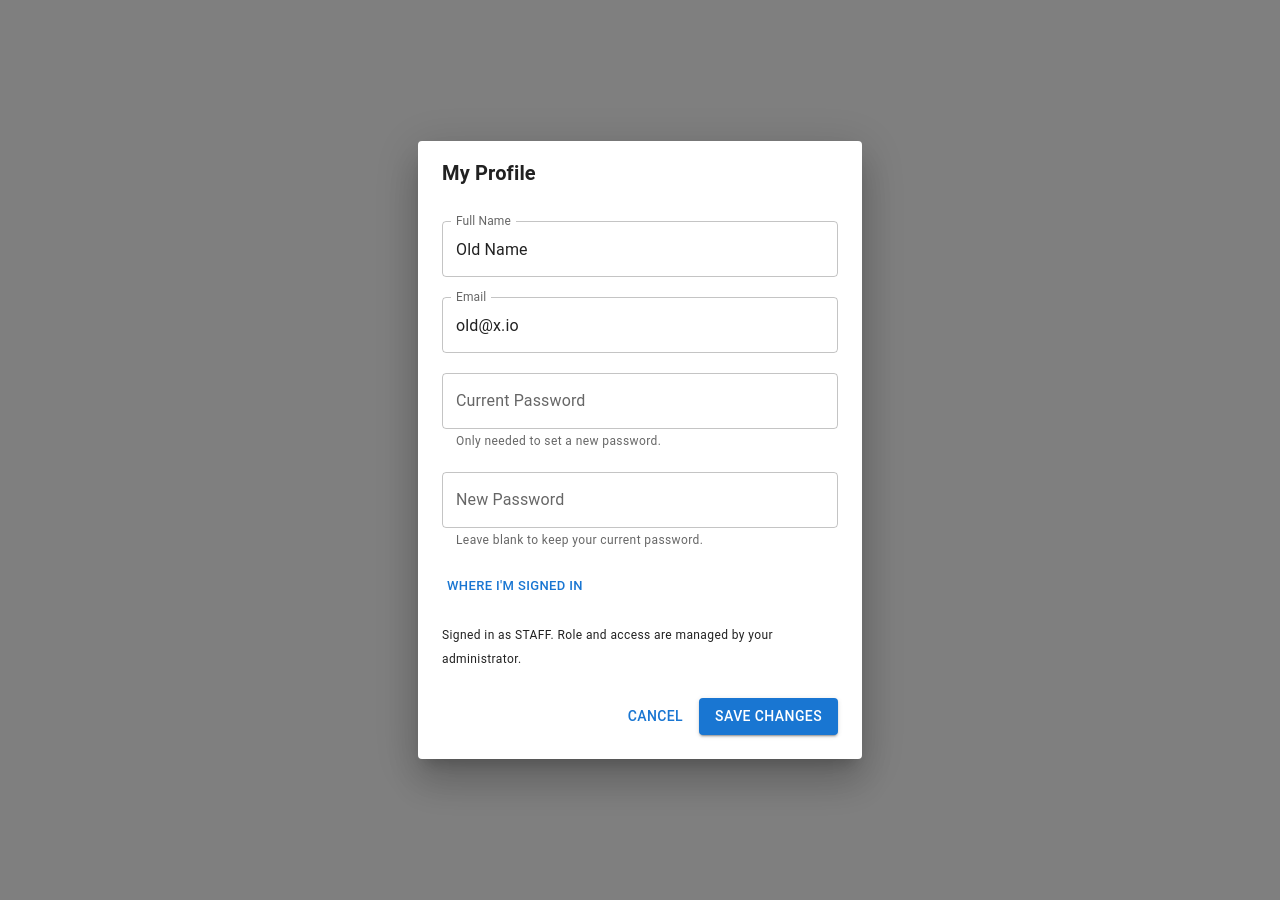
Test case: ProfileDialog › blocks saving when name or email is cleared
Clear the field labelled "Full Name" at [640, 250], box [442,222,838,278]
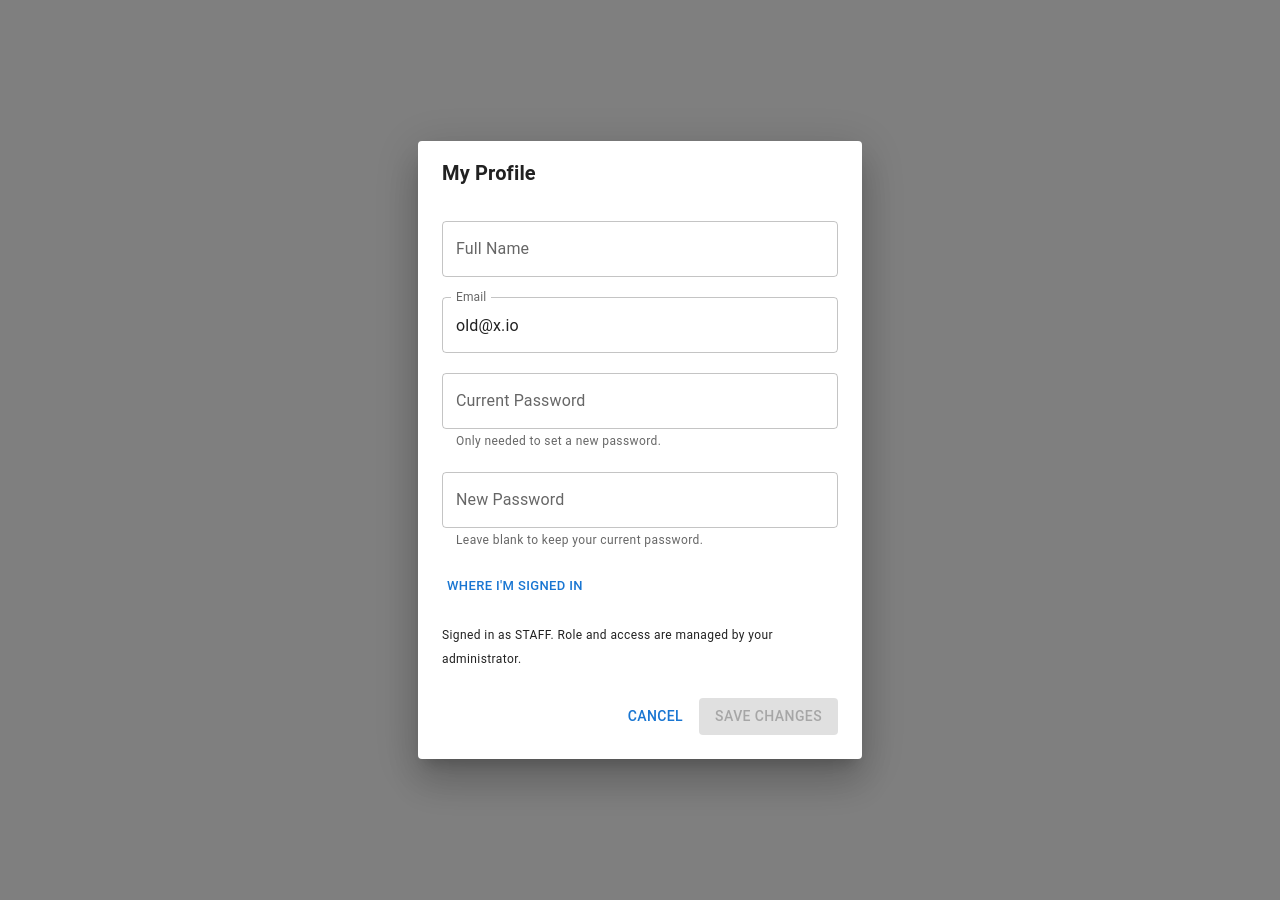
Now the button "Save Changes" is disabled, box [699,698,838,734]
